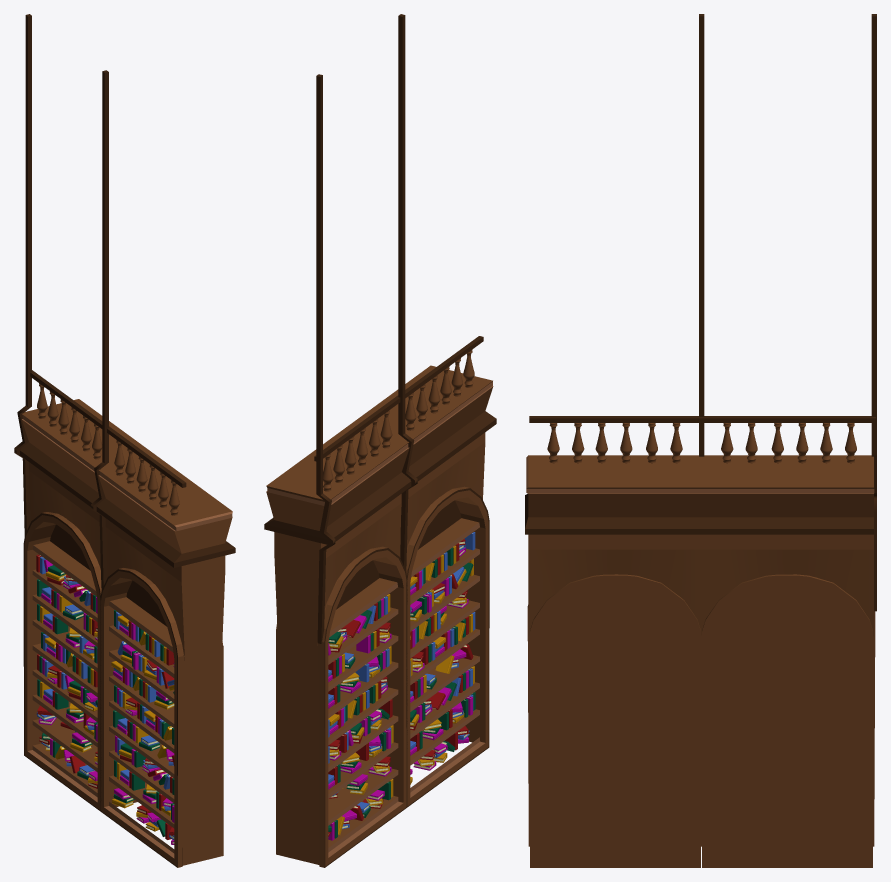
File: 2_3 boekenmuur.fbx
3 renders of one model, left to right at view 1: azimuth 30°, elevation 25°; view 2: azimuth 150°, elevation 25°; view 3: azimuth 270°, elevation 25°, orthographic. The views are drawn at different scales.
Visible parts, largest first — view 1: main_closet1, books1, fence_and_wire_detail1; view 2: main_closet1, books1, fence_and_wire_detail1; view 3: main_closet1, fence_and_wire_detail1.
Boxes of the visible parts, bbox=[...] form: main_closet1: bbox=[20, 399, 235, 867]; books1: bbox=[36, 554, 174, 844]; fence_and_wire_detail1: bbox=[14, 14, 186, 589]; main_closet1: bbox=[264, 365, 496, 867]; books1: bbox=[328, 532, 475, 840]; fence_and_wire_detail1: bbox=[314, 14, 483, 643]; main_closet1: bbox=[525, 455, 875, 867]; fence_and_wire_detail1: bbox=[529, 14, 876, 611].
Size of the model in its own units: 2.9 by 31.43 by 12.05.
